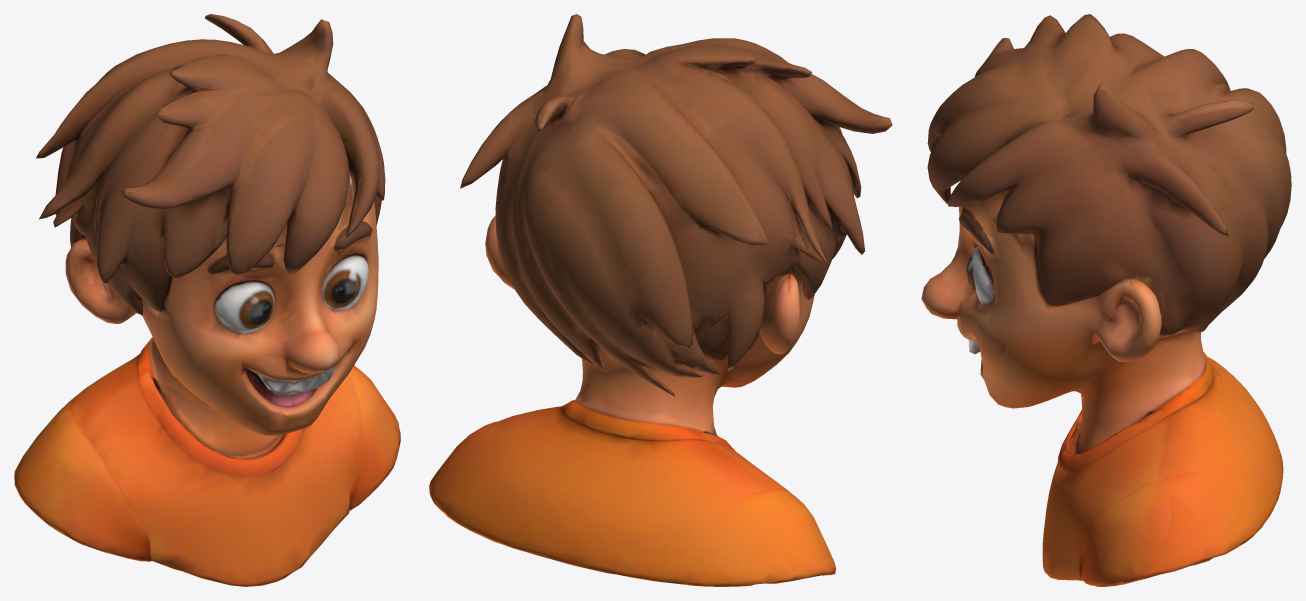
Rendered from ava.glb.
3 views of the same model, side by side, from view 1: azimuth 30°, elevation 25°; view 2: azimuth 150°, elevation 25°; view 3: azimuth 270°, elevation 25° (orthographic). The views are drawn at different scales.
Size of the model in its own units: 1.47 by 2 by 1.28.
1 material, 1 textured.
